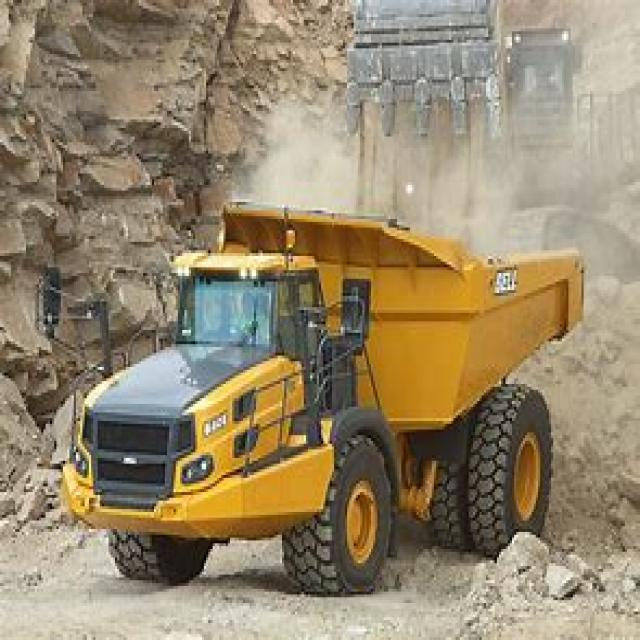dump_truck: (39, 180, 584, 598)
